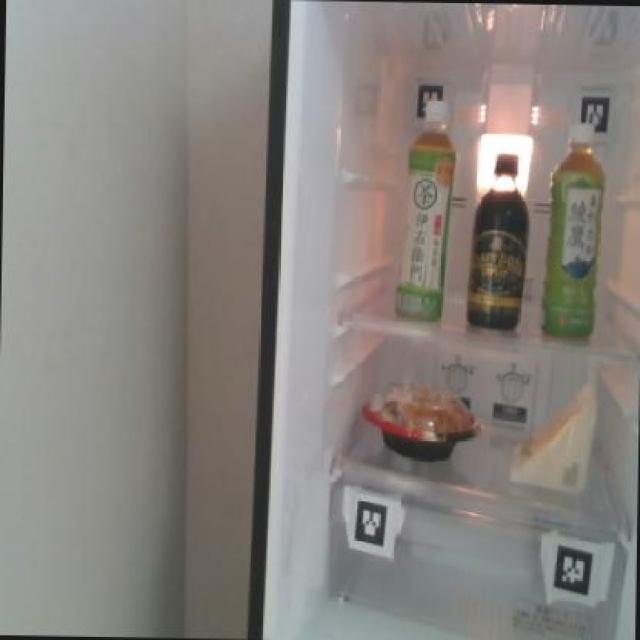bento: (362, 382, 484, 464)
coffee: (464, 152, 531, 330)
sandwich: (508, 376, 595, 492)
tea_a: (538, 131, 605, 340)
tea_i: (393, 116, 456, 321)
